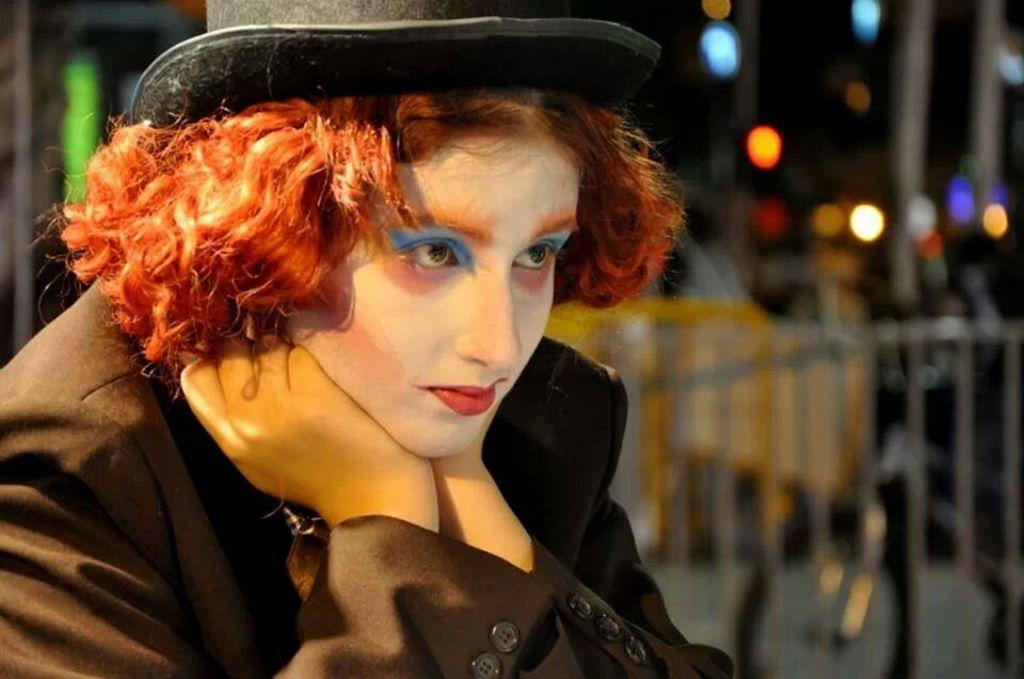Hat: (132, 0, 664, 164)
